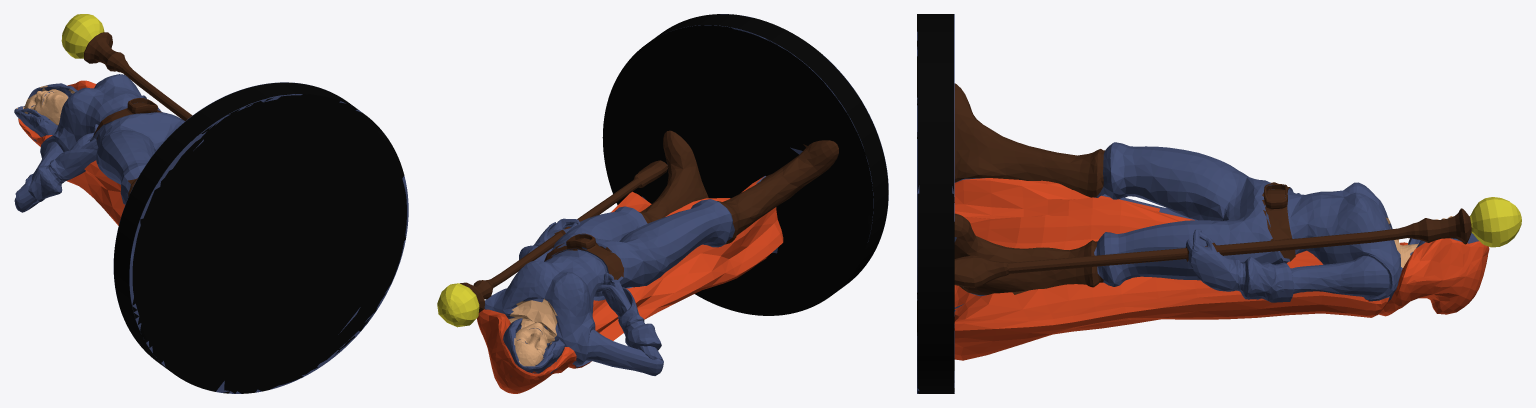
The model's file is FemaleHumanWarlock.fbx.
3 renders of one model, left to right at view 1: azimuth 30°, elevation 25°; view 2: azimuth 150°, elevation 25°; view 3: azimuth 270°, elevation 25°, orthographic. The views are drawn at different scales.
Visible parts, largest first — view 1: Female Fire Sorcerer; view 2: Female Fire Sorcerer; view 3: Female Fire Sorcerer.
Boxes of the visible parts, x1,y1,x2,y2 form: Female Fire Sorcerer: (14, 14, 408, 393); Female Fire Sorcerer: (437, 14, 888, 393); Female Fire Sorcerer: (917, 14, 1521, 393).
Size of the model in its own units: 2525 by 4019 by 2525.
